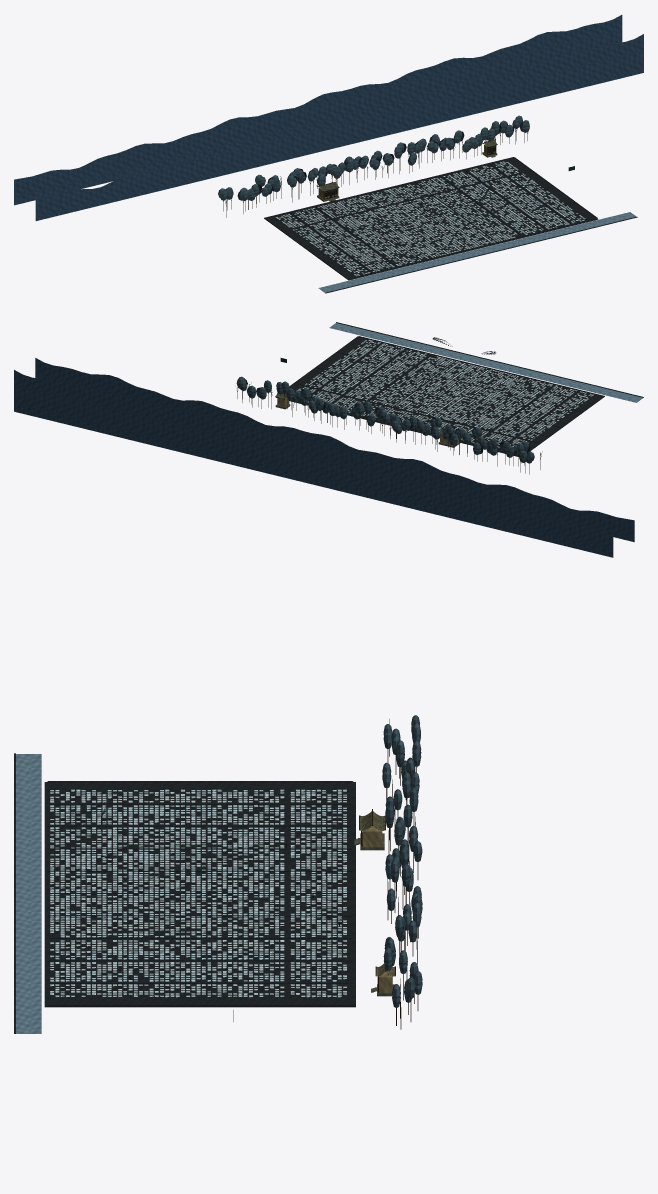
Rendered from JingXi_Aligned_Winter.glb.
The picture shows the model from 3 angles, top to bottom: view 1: azimuth 30°, elevation 25°; view 2: azimuth 150°, elevation 25°; view 3: azimuth 270°, elevation 25°; orthographic projection. The views are drawn at different scales.
Visible parts, largest first — view 1: Winter_MountainRidge_mountain, Winter_FieldEarth_earth, Winter_PatchSnow_snow, Winter_TreeCrowns_crown, Winter_YuquanCanal_water, Winter_CrossBanks_earth, Winter_FieldBanks_earth, Winter_TreeTrunks_wood, Winter_Rice_Stubble_rice, Winter_NearBank_earth, Winter_TreeCrowns_leaf; view 2: Winter_MountainRidge_mountain, Winter_FieldEarth_earth, Winter_PatchSnow_snow, Winter_TreeCrowns_crown, Winter_YuquanCanal_water, Winter_CrossBanks_earth, Winter_FieldBanks_earth, Winter_TreeTrunks_wood, Winter_Rice_Stubble_rice, Winter_NearBank_earth, Winter_TreeCrowns_leaf; view 3: Winter_FieldEarth_earth, Winter_PatchSnow_snow, Winter_YuquanCanal_water, Winter_TreeCrowns_crown, Winter_FieldBanks_earth, Winter_CrossBanks_earth, Winter_TreeTrunks_wood.
Boxes of the visible parts, <box> form: Winter_MountainRidge_mountain: <box>14,15,643,220</box>; Winter_FieldEarth_earth: <box>264,157,598,280</box>; Winter_PatchSnow_snow: <box>275,161,585,276</box>; Winter_TreeCrowns_crown: <box>218,115,529,200</box>; Winter_YuquanCanal_water: <box>318,212,636,292</box>; Winter_CrossBanks_earth: <box>265,157,596,278</box>; Winter_FieldBanks_earth: <box>264,157,597,278</box>; Winter_TreeTrunks_wood: <box>223,126,527,217</box>; Winter_Rice_Stubble_rice: <box>279,161,578,273</box>; Winter_NearBank_earth: <box>325,216,637,293</box>; Winter_TreeCrowns_leaf: <box>225,120,522,200</box>; Winter_MountainRidge_mountain: <box>14,358,634,557</box>; Winter_FieldEarth_earth: <box>275,336,604,456</box>; Winter_PatchSnow_snow: <box>296,339,593,447</box>; Winter_TreeCrowns_crown: <box>237,376,534,463</box>; Winter_YuquanCanal_water: <box>329,323,642,402</box>; Winter_CrossBanks_earth: <box>294,336,603,455</box>; Winter_FieldBanks_earth: <box>289,336,604,451</box>; Winter_TreeTrunks_wood: <box>237,384,540,474</box>; Winter_Rice_Stubble_rice: <box>307,342,581,447</box>; Winter_NearBank_earth: <box>336,322,643,397</box>; Winter_TreeCrowns_leaf: <box>236,379,530,455</box>; Winter_FieldEarth_earth: <box>44,782,355,1007</box>; Winter_PatchSnow_snow: <box>50,789,346,997</box>; Winter_YuquanCanal_water: <box>16,754,41,1033</box>; Winter_TreeCrowns_crown: <box>382,715,422,1007</box>; Winter_FieldBanks_earth: <box>48,781,352,1006</box>; Winter_CrossBanks_earth: <box>47,781,353,1005</box>; Winter_TreeTrunks_wood: <box>386,748,418,1029</box>.
Bounding box in the file's own units: 195 × 13.26 × 95.15.
15 materials, 15 textured.
